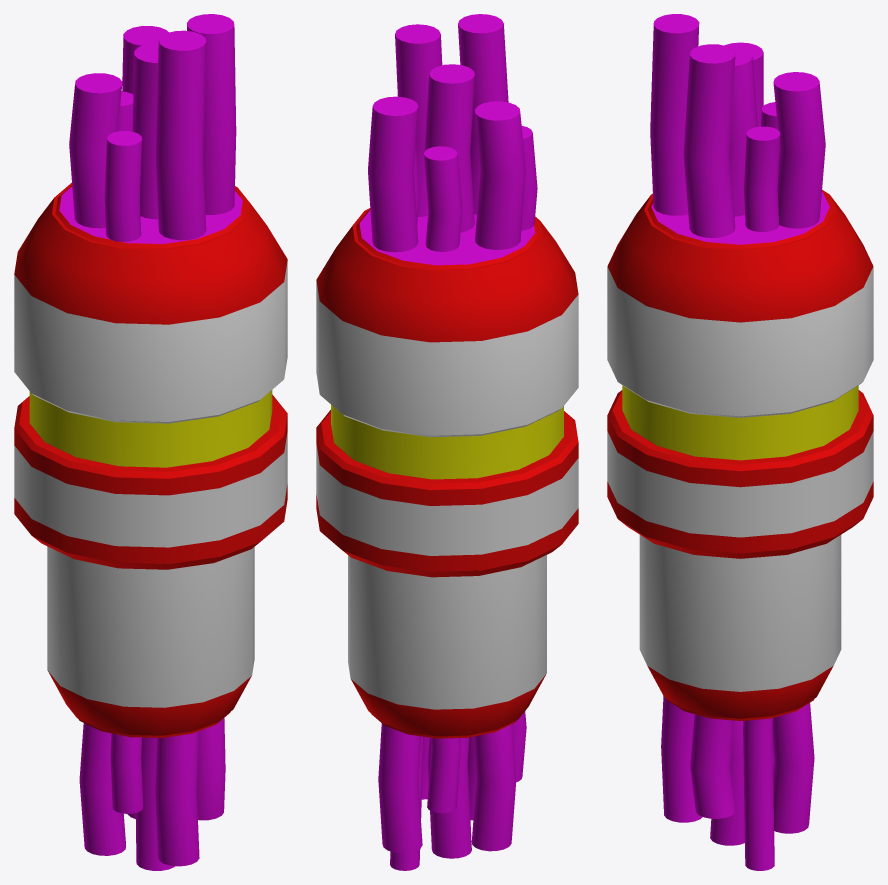
File: SM_VoiceModule.fbx
3 renders of one model, left to right at view 1: azimuth 30°, elevation 25°; view 2: azimuth 150°, elevation 25°; view 3: azimuth 270°, elevation 25°, orthographic. The views are drawn at different scales.
Parts seen in each view (by area): view 1: VoiceModule; view 2: VoiceModule; view 3: VoiceModule.
Part boxes in pixels (x1,y1,x2,y2): VoiceModule: (14,14,287,870); VoiceModule: (316,14,578,870); VoiceModule: (607,14,873,870).
Size of the model in its own units: 2.27 by 2.27 by 7.76.
